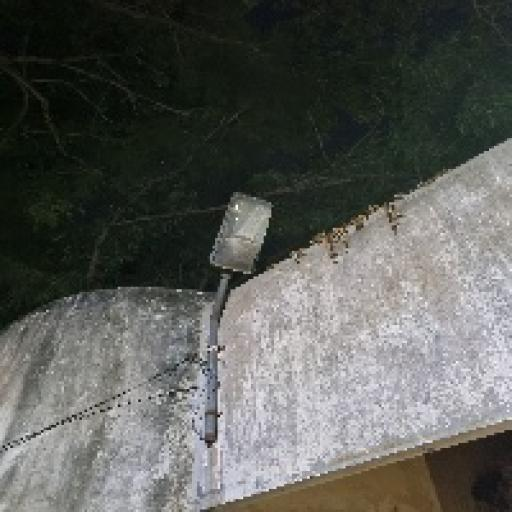Not Working: (192, 176, 298, 299)
